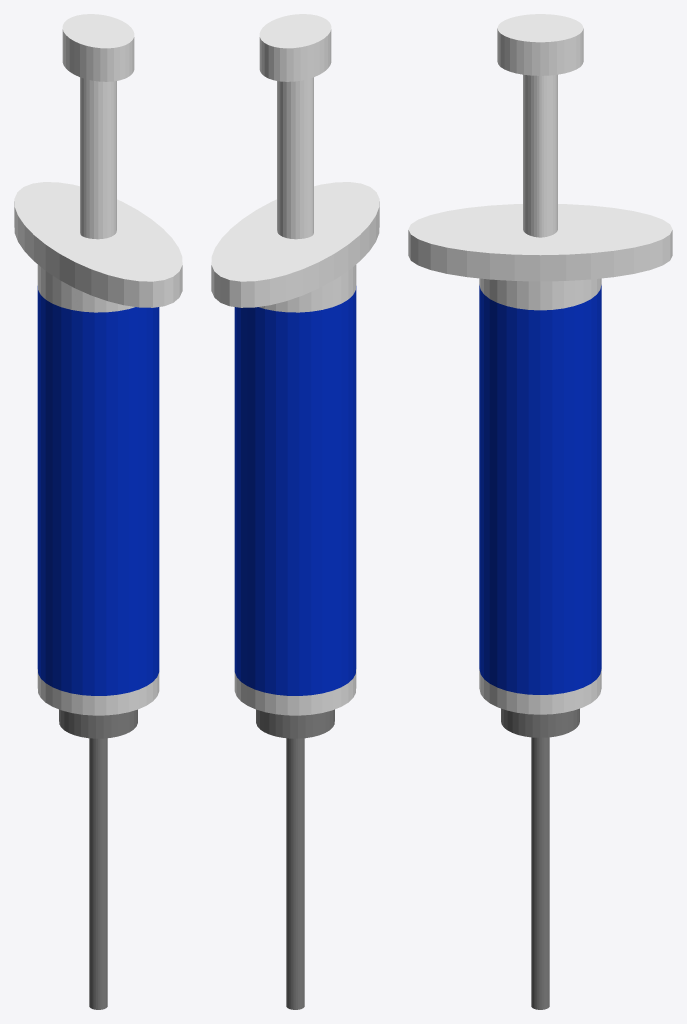
Rendered from Syringe.fbx.
3 renders of one model, left to right at view 1: azimuth 30°, elevation 25°; view 2: azimuth 150°, elevation 25°; view 3: azimuth 270°, elevation 25°, orthographic.
Visible parts, largest first — view 1: Syringe; view 2: Syringe; view 3: Syringe.
Part boxes in pixels (<box>): Syringe: <box>14,14,182,1009</box>; Syringe: <box>211,14,379,1009</box>; Syringe: <box>408,14,672,1009</box>.
Bounding box in the file's own units: 50.13 × 443 × 109.
